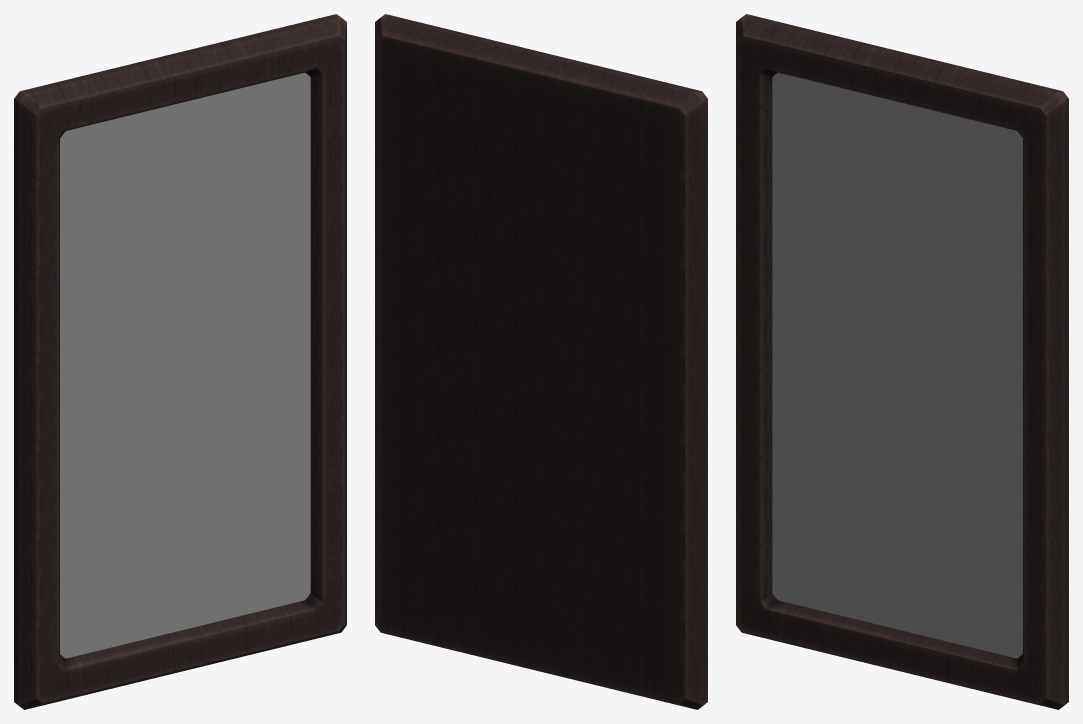
File: Static_Frame_Portrait_Dark.FBX
3 views of the same model, side by side, from view 1: azimuth 30°, elevation 25°; view 2: azimuth 150°, elevation 25°; view 3: azimuth 330°, elevation 25° (orthographic).
Parts seen in each view (by area): view 1: Object013, Object014; view 2: Object014; view 3: Object013, Object014.
Part boxes in pixels (x1,y1,x2,y2): Object013: [60, 72, 310, 658]; Object014: [14, 14, 346, 709]; Object014: [375, 14, 707, 709]; Object013: [772, 72, 1022, 658]; Object014: [736, 14, 1068, 709].
Size of the model in its own units: 55.7 by 99.84 by 6.13.
